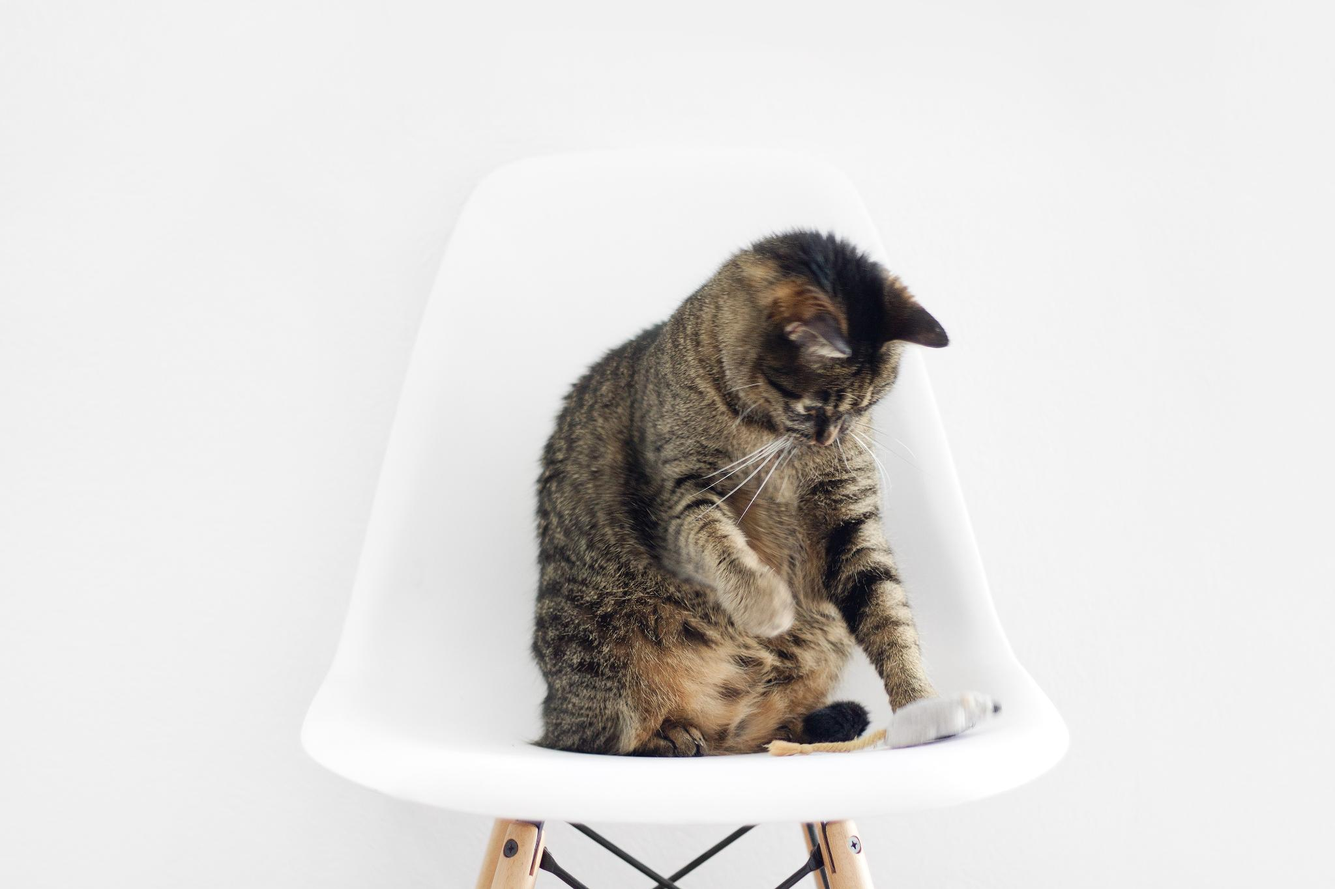cat: (526, 225, 1002, 758)
